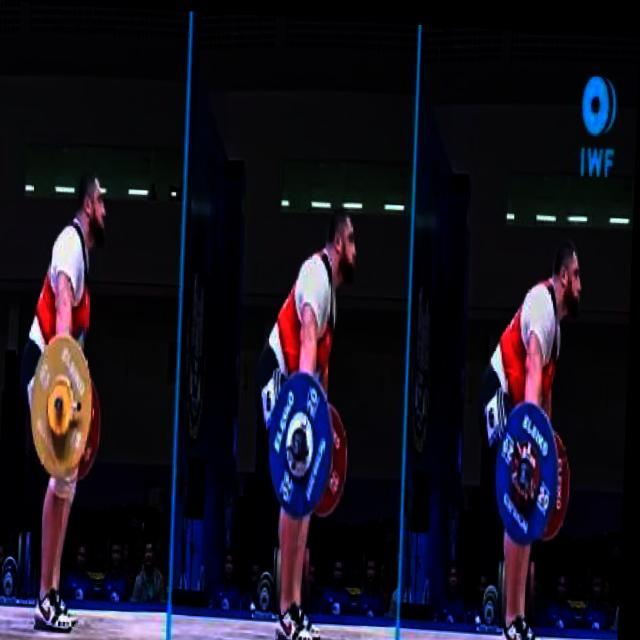barbell: (267, 364, 342, 516), (30, 328, 102, 483), (491, 387, 563, 540)
